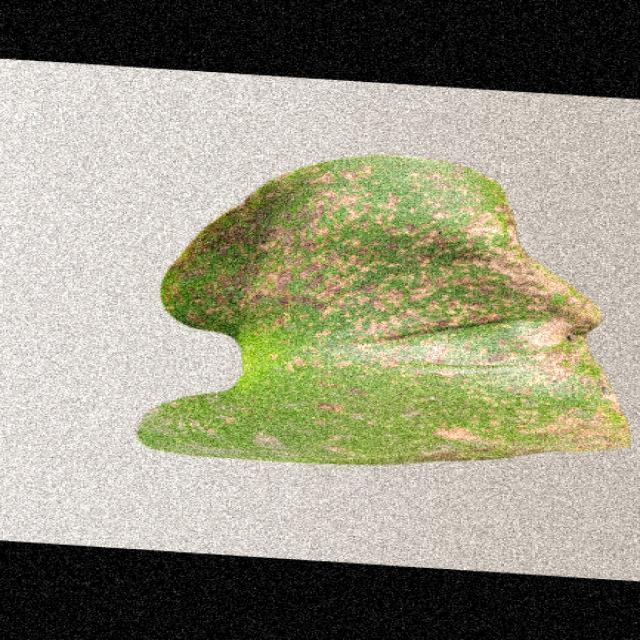daun berpenyakit bercak: (138, 155, 630, 464)
